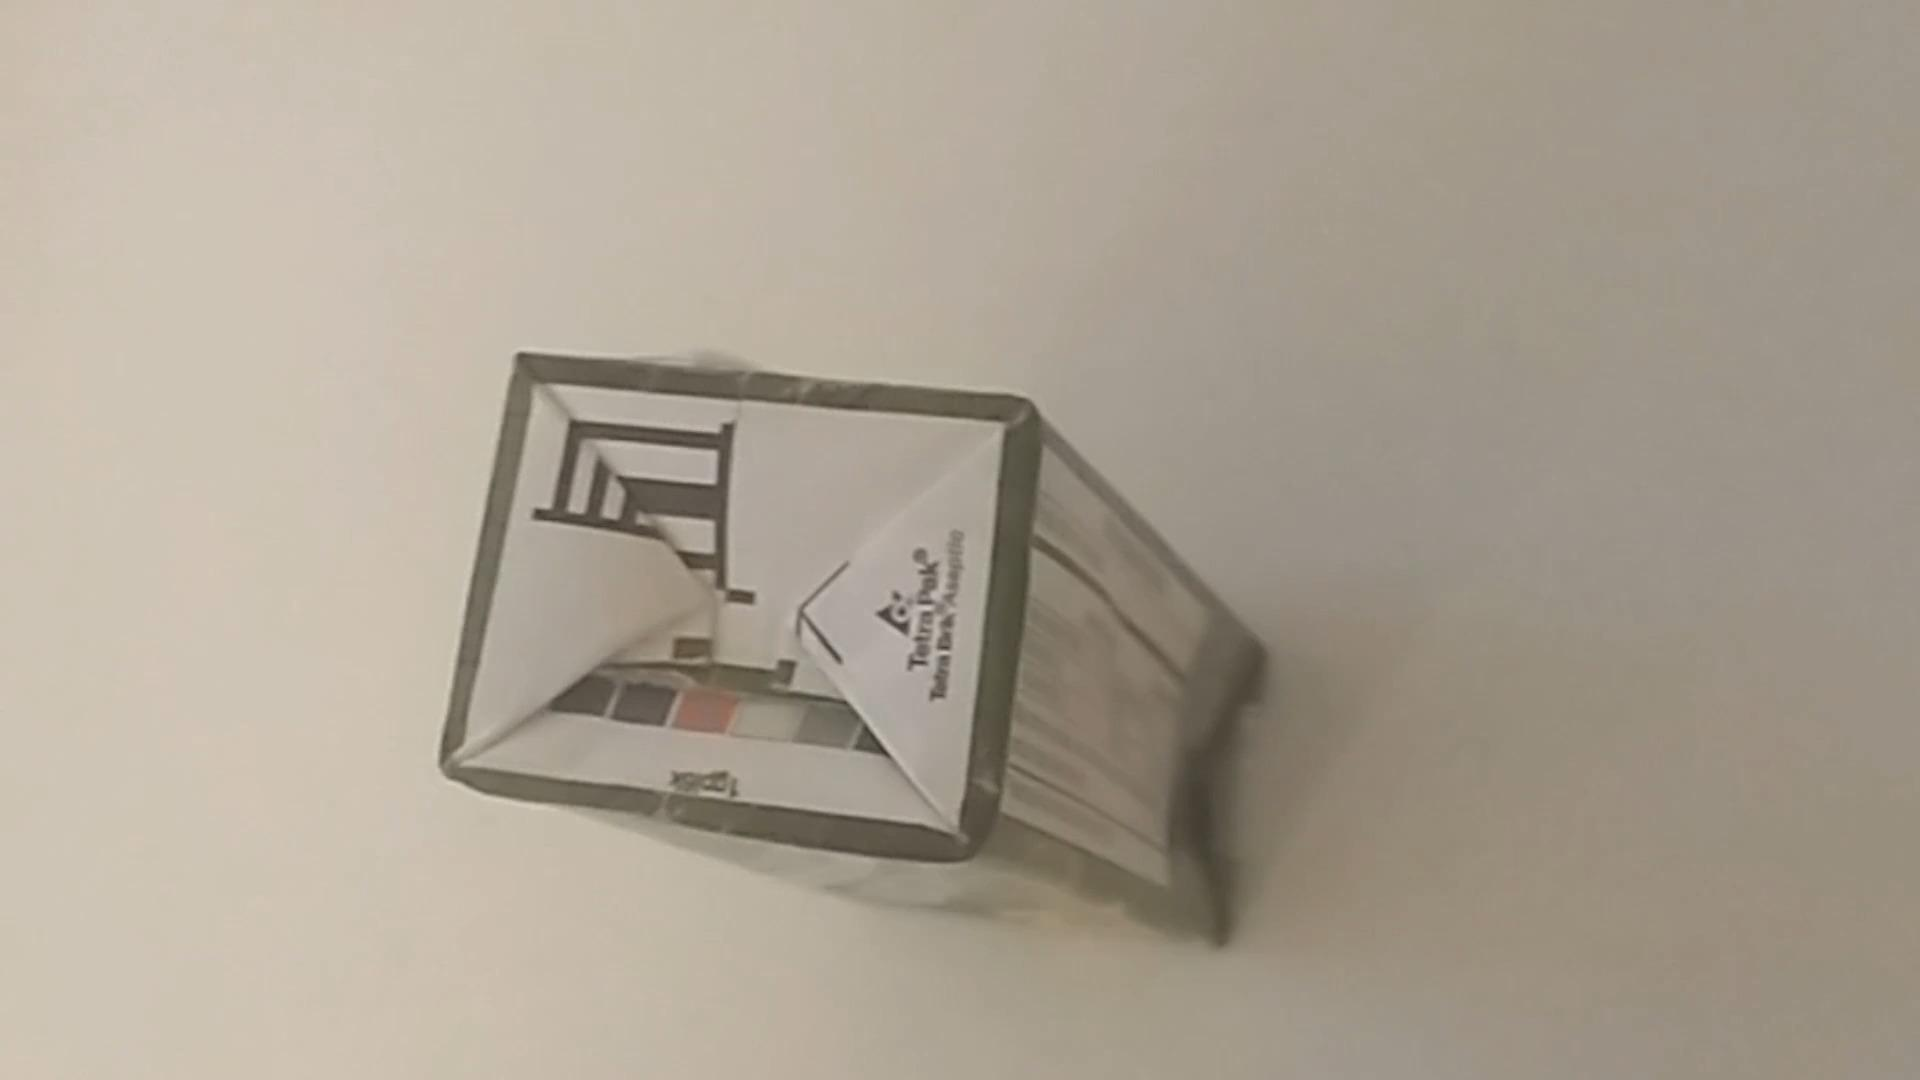coco: (435, 343, 1308, 949)
